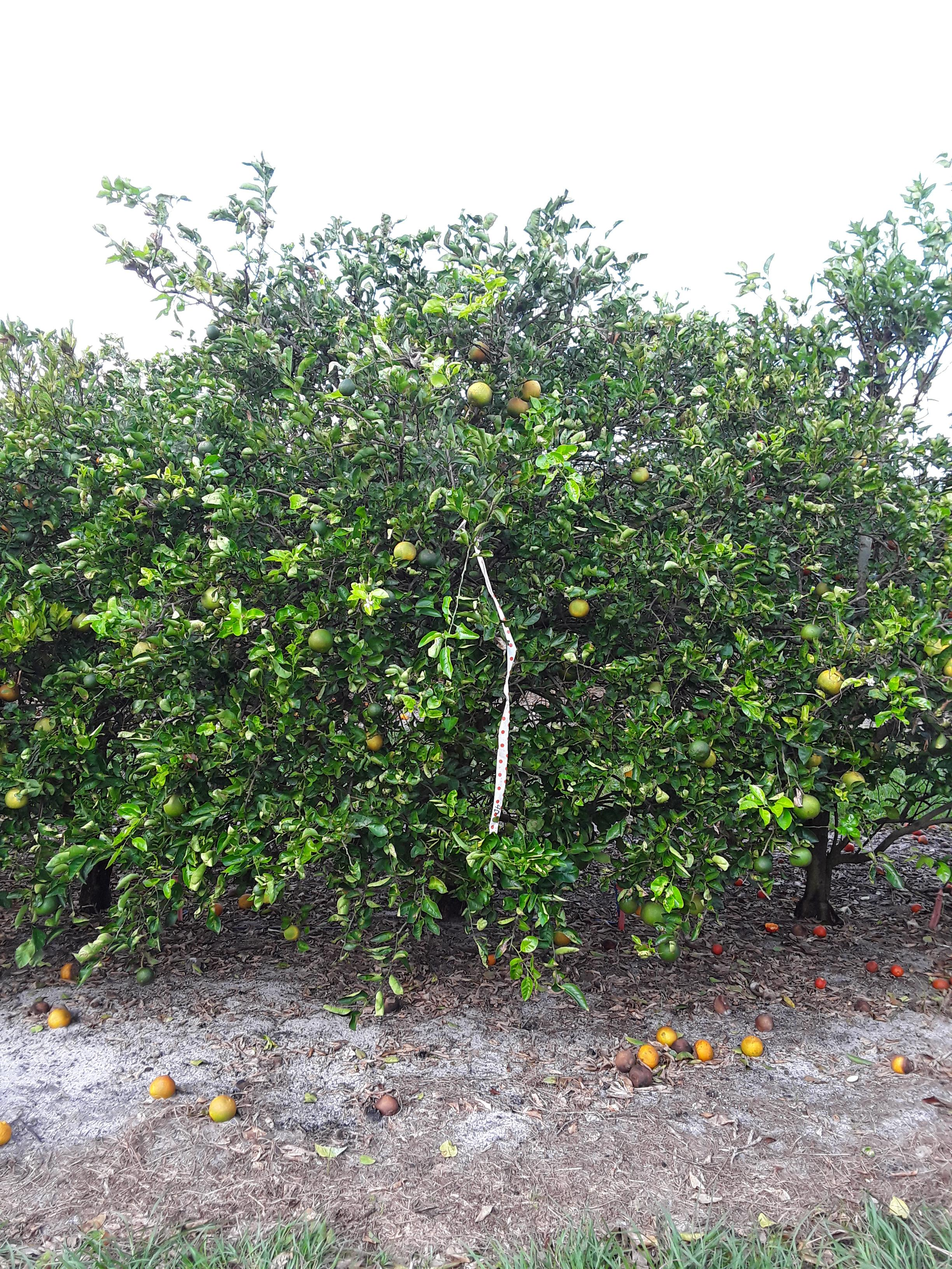fruit_on_ground: (918, 630, 952, 664), (637, 898, 672, 929), (465, 379, 498, 411), (815, 664, 843, 698), (129, 639, 160, 668), (308, 625, 335, 656), (616, 888, 642, 916), (655, 938, 683, 964), (799, 622, 828, 647), (566, 589, 590, 619), (842, 768, 869, 794), (787, 843, 814, 869), (392, 540, 421, 563), (4, 787, 29, 813), (808, 470, 835, 494), (414, 549, 442, 572), (794, 795, 818, 821), (752, 566, 779, 589), (200, 587, 224, 612), (687, 739, 711, 763), (165, 792, 187, 818), (364, 725, 384, 753), (374, 587, 399, 608), (470, 343, 492, 366), (72, 612, 94, 634), (630, 462, 651, 485), (363, 700, 387, 720), (696, 749, 720, 769), (846, 449, 871, 468), (336, 377, 360, 396), (80, 672, 102, 692), (0, 683, 19, 706), (195, 437, 215, 458), (510, 392, 528, 415), (805, 750, 825, 770), (814, 582, 836, 600), (753, 855, 775, 873), (17, 530, 38, 548), (309, 519, 329, 537), (523, 376, 540, 397), (210, 903, 227, 921), (883, 535, 901, 552), (206, 323, 221, 341), (556, 934, 571, 951), (799, 561, 813, 579), (487, 952, 499, 967)
fruit_on_tree: (207, 1091, 237, 1125), (147, 1070, 175, 1104), (375, 1090, 400, 1119), (740, 1033, 766, 1059), (708, 992, 735, 1017), (130, 965, 158, 988), (46, 1007, 70, 1033), (635, 1041, 657, 1067), (280, 923, 302, 946), (612, 1045, 634, 1068), (660, 1028, 681, 1051), (698, 1038, 717, 1060), (753, 1010, 772, 1031), (892, 1054, 911, 1075), (1, 1126, 18, 1149), (931, 975, 950, 994), (60, 961, 76, 981), (0, 1122, 15, 1143), (709, 941, 726, 959), (236, 896, 250, 913), (909, 900, 923, 916), (763, 925, 777, 939), (864, 959, 876, 974), (890, 963, 902, 978), (817, 978, 829, 993), (817, 929, 828, 942)
